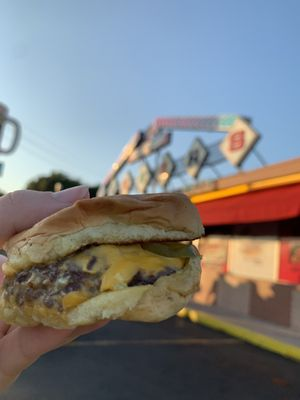soup: (0, 193, 205, 331)
